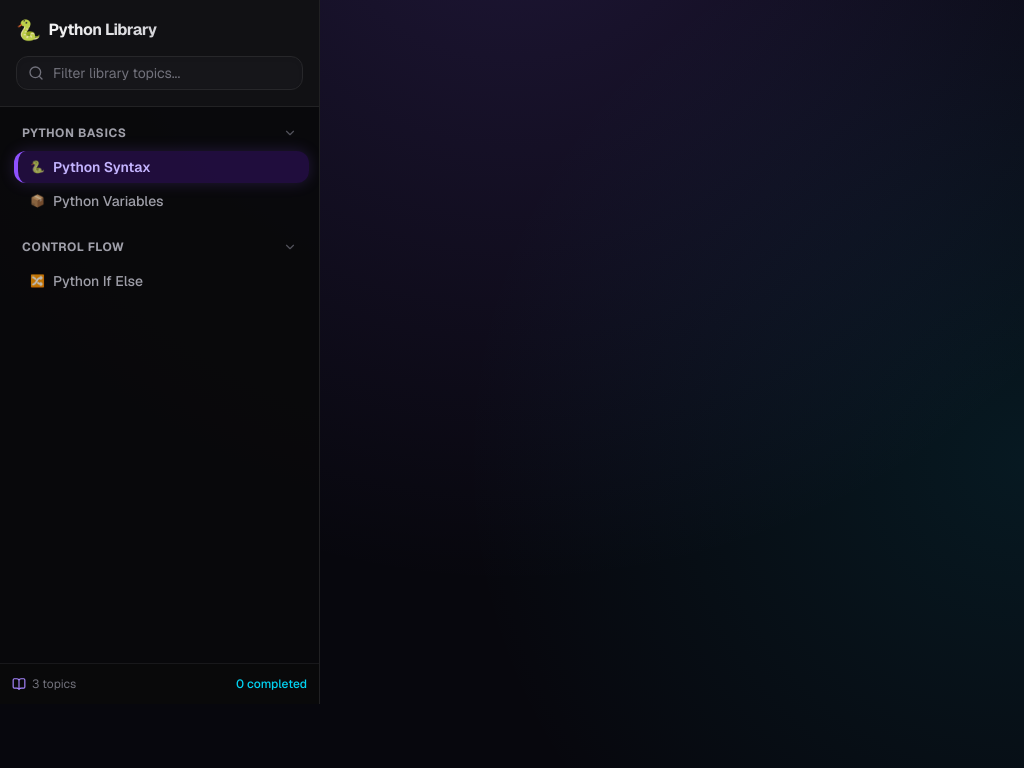
it: W3Schools TutorialSidebar Component › filters topics dynamically when search query is entered
The width and height of the screenshot is (1024, 768).
In the field with placeholder "Filter library topics...": (160, 73) [16, 56, 303, 90], type "Variables"
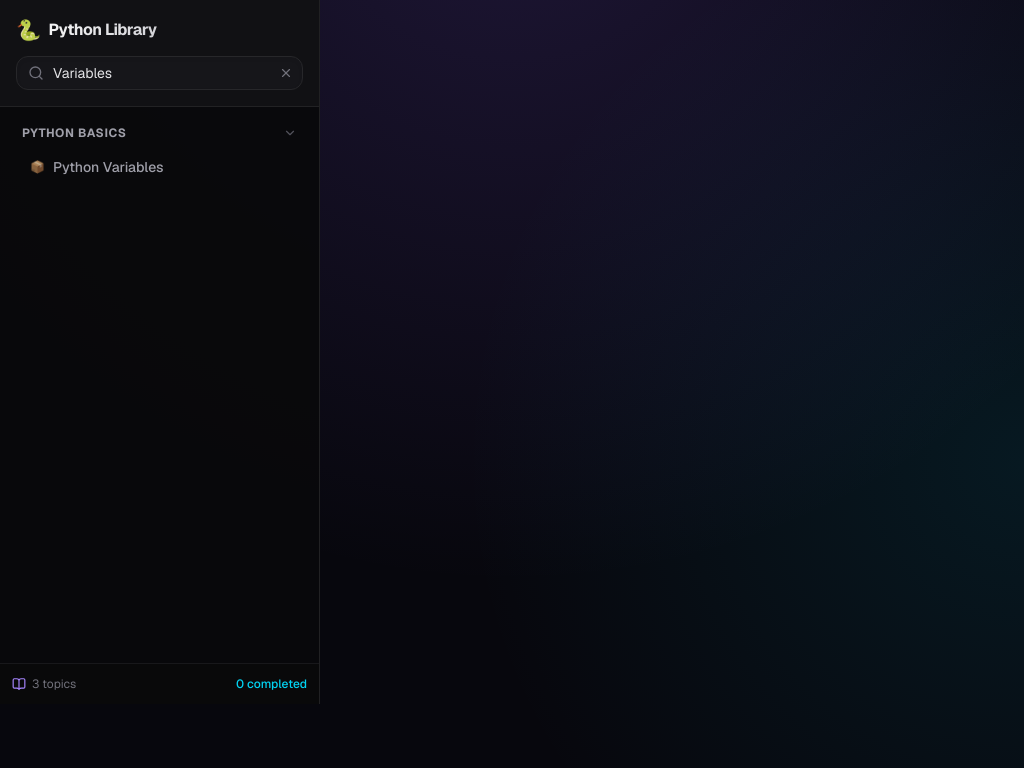
Check: the text "Python Variables" is shown, box [53, 157, 164, 177]
Check: the button "Python Syntax" is gone
Check: the button "Python If Else" is gone
